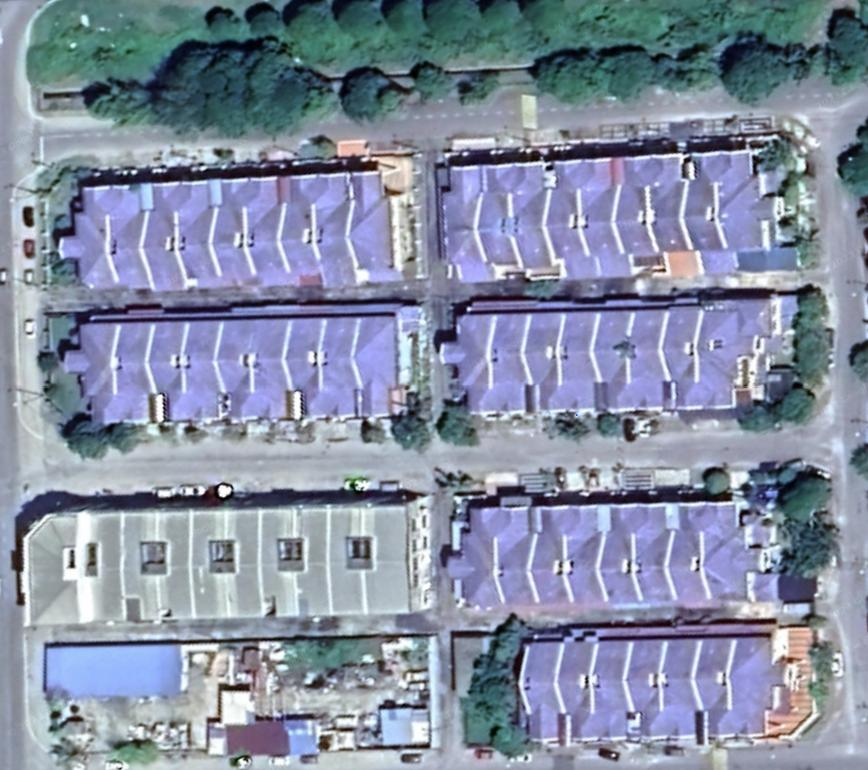building: (17, 505, 122, 632), (694, 299, 775, 411), (326, 505, 409, 613), (262, 499, 335, 619), (192, 505, 265, 624), (123, 505, 193, 627), (680, 152, 743, 282), (705, 504, 782, 605), (715, 155, 790, 257), (614, 156, 671, 288), (735, 635, 805, 742), (347, 169, 410, 286), (649, 156, 704, 287), (441, 161, 498, 285), (546, 159, 603, 283), (438, 311, 498, 420), (511, 164, 565, 284), (208, 181, 265, 293), (309, 173, 365, 286), (585, 156, 635, 280), (445, 502, 504, 607), (54, 188, 113, 290), (64, 321, 118, 429), (245, 177, 296, 290), (476, 164, 525, 280), (590, 639, 644, 744), (519, 638, 572, 744), (247, 319, 301, 423), (660, 305, 712, 413), (597, 505, 648, 615), (564, 505, 614, 612), (277, 175, 326, 284), (636, 504, 685, 613), (176, 184, 225, 292), (494, 501, 541, 612), (695, 633, 742, 744), (628, 308, 677, 414), (141, 185, 189, 293), (670, 504, 717, 614), (626, 634, 674, 741), (180, 320, 228, 426), (145, 321, 192, 428), (354, 312, 399, 423), (491, 310, 535, 419), (592, 309, 637, 415), (530, 503, 574, 611), (525, 309, 569, 415), (664, 638, 710, 738), (111, 323, 157, 422), (105, 186, 149, 289), (560, 314, 605, 414), (322, 316, 363, 423), (558, 639, 599, 742), (284, 320, 325, 422), (217, 319, 255, 423)
